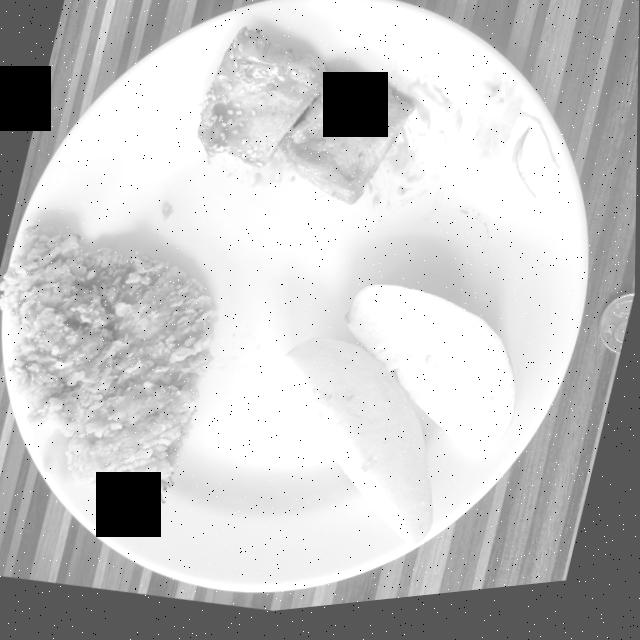coin: (600, 305, 636, 367)
creamy tofu: (197, 31, 414, 211)
fried chicken cutlet: (0, 225, 218, 494)
guava -sliced-: (284, 291, 517, 552)
